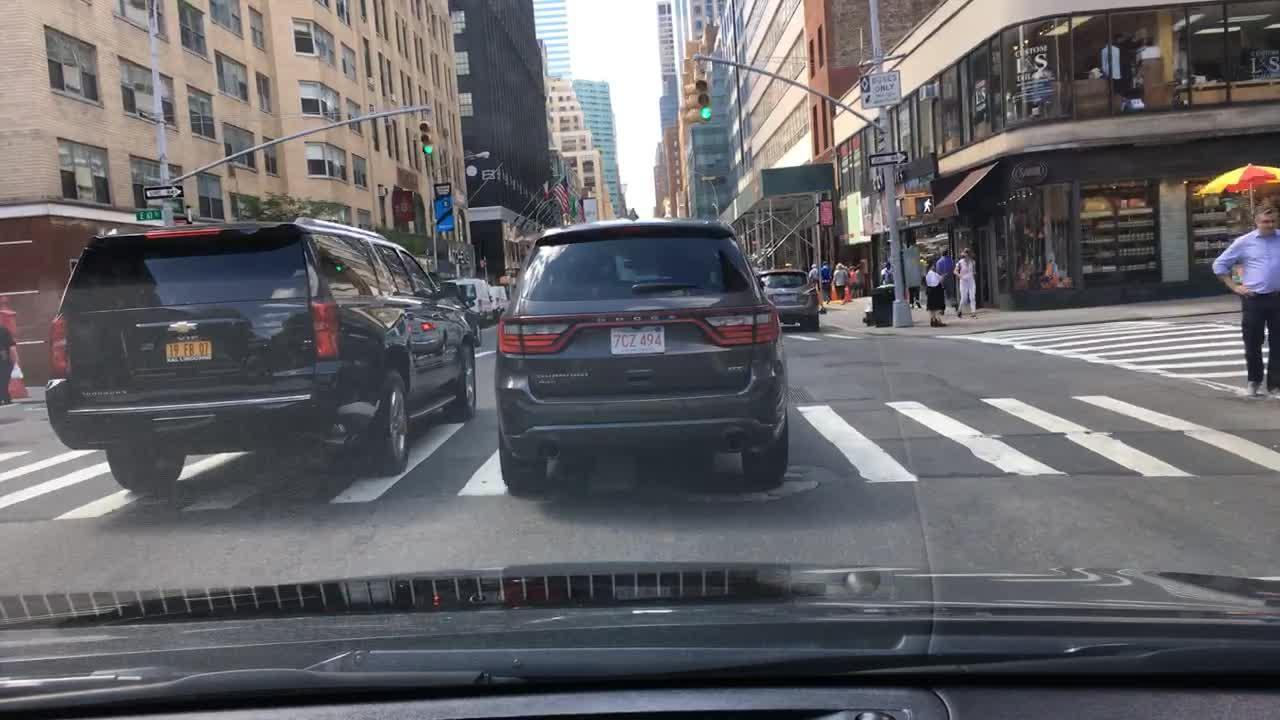chevrolet: (167, 317, 198, 341)
dodge: (585, 310, 687, 329)
